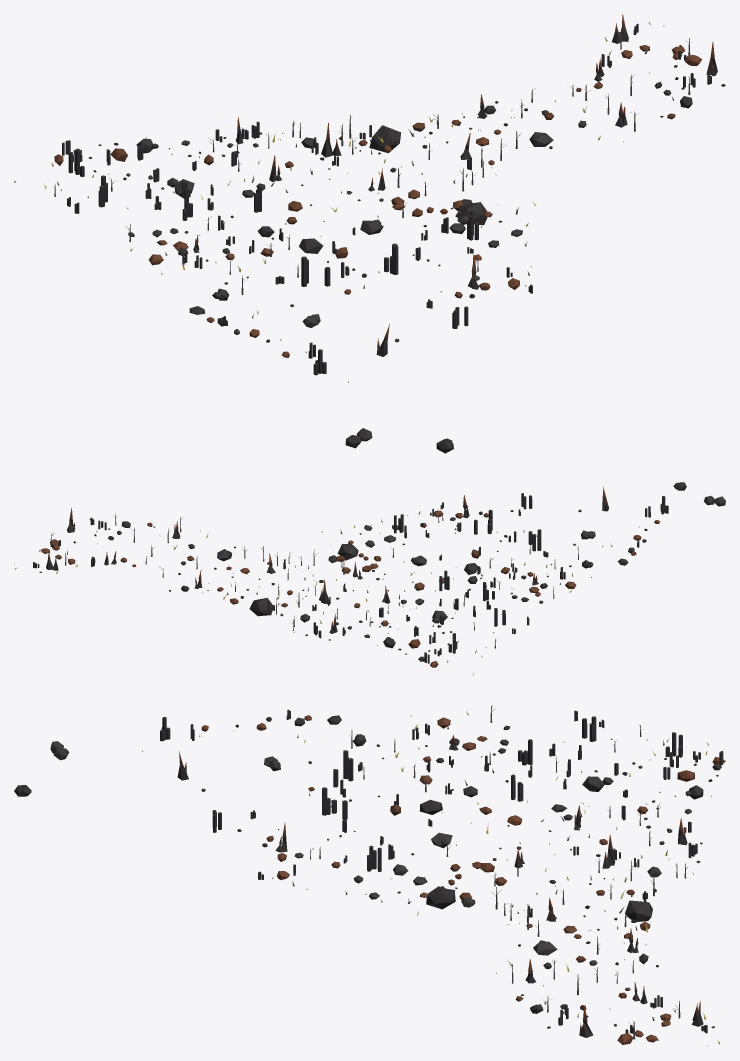
Rendered from ash_land_scatter_c15_29_lod1.glb.
3 views of the same model, one above another, from view 1: azimuth 30°, elevation 25°; view 2: azimuth 150°, elevation 25°; view 3: azimuth 270°, elevation 25° (orthographic). The views are drawn at different scales.
Parts seen in each view (by area): view 1: ash_land_scatter_c15_29_lod1; view 2: ash_land_scatter_c15_29_lod1; view 3: ash_land_scatter_c15_29_lod1.
Boxes of the visible parts, box(x1,y1,x2,y2) form: ash_land_scatter_c15_29_lod1: box(14, 14, 725, 453); ash_land_scatter_c15_29_lod1: box(14, 482, 725, 675); ash_land_scatter_c15_29_lod1: box(14, 705, 725, 1044).
Size of the model in its own units: 255 by 23.69 by 248.
